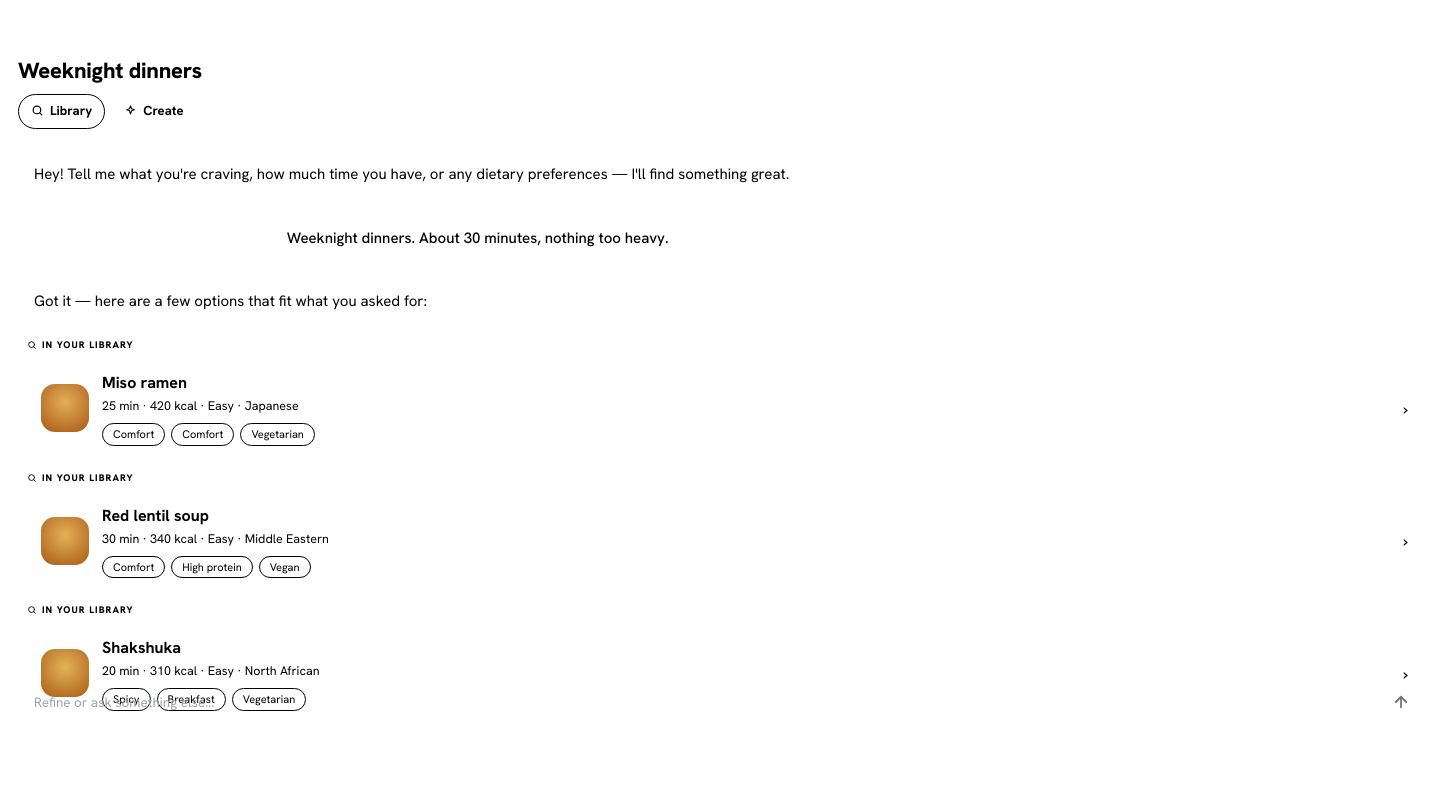
ChatPage — Library and Create modes › says which thread it is drawing context from
This screenshot has width=1440, height=810.
Check: the text "Tell me what you're craving" is shown, box [34,164,789,184]
Click the tab "Create". click: coordinates (154, 111)
box: [111,94,196,128]
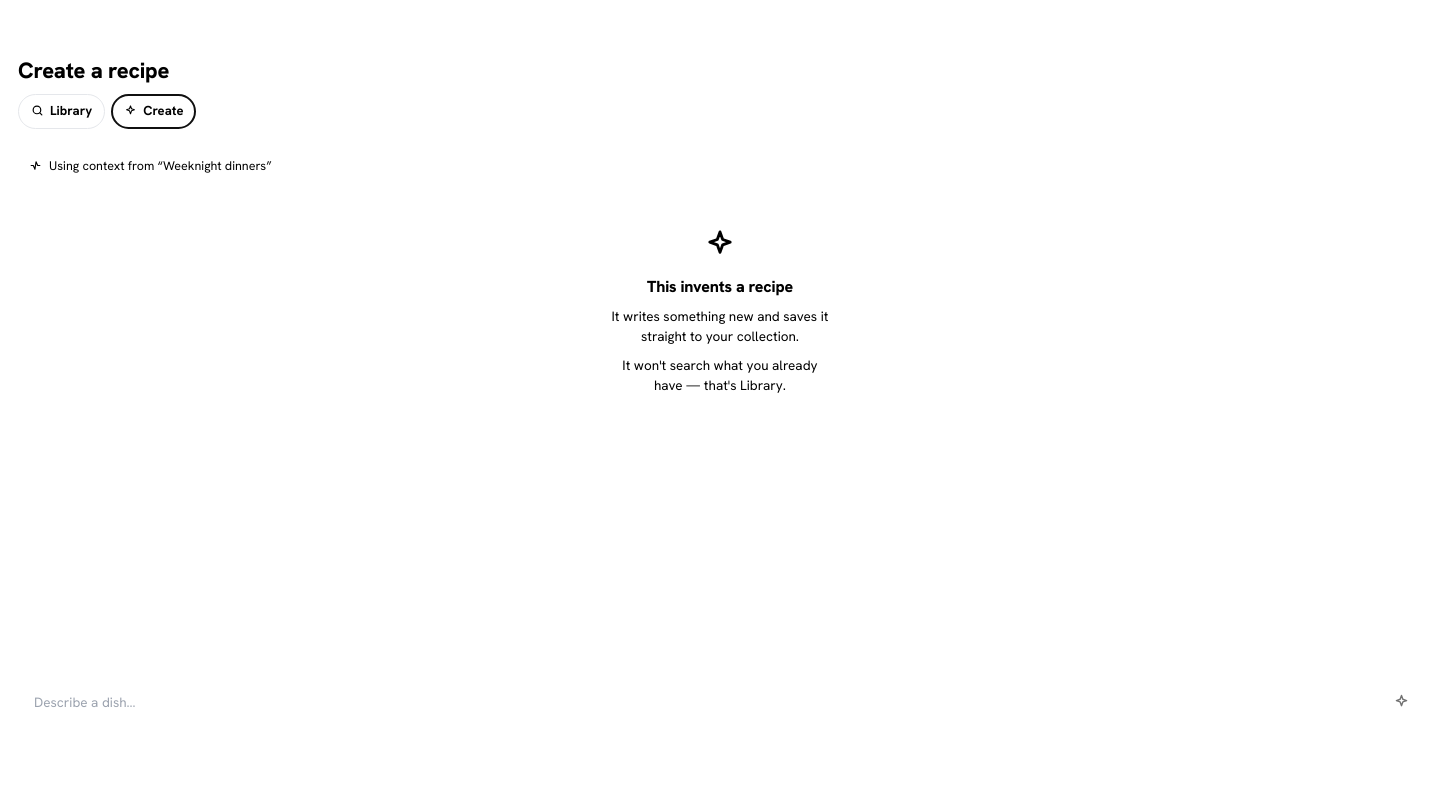
Check: the text "Using context from “Weeknight dinners”" is shown, box [49,156,272,175]
